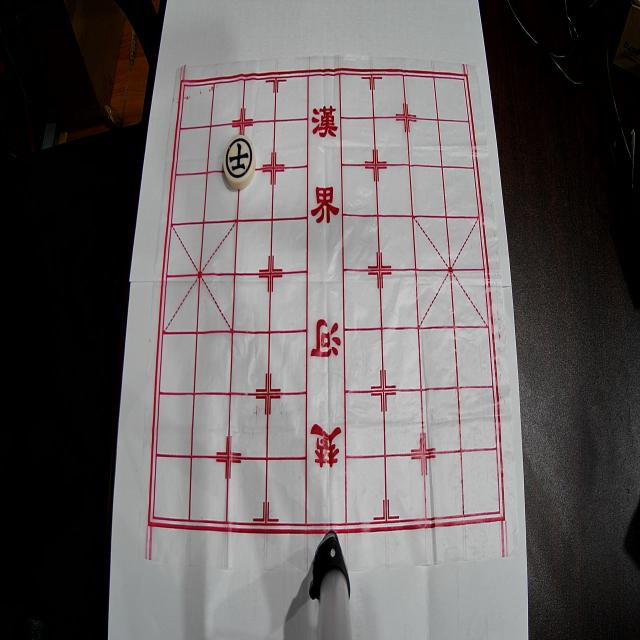black-guard: (223, 135, 256, 189)
